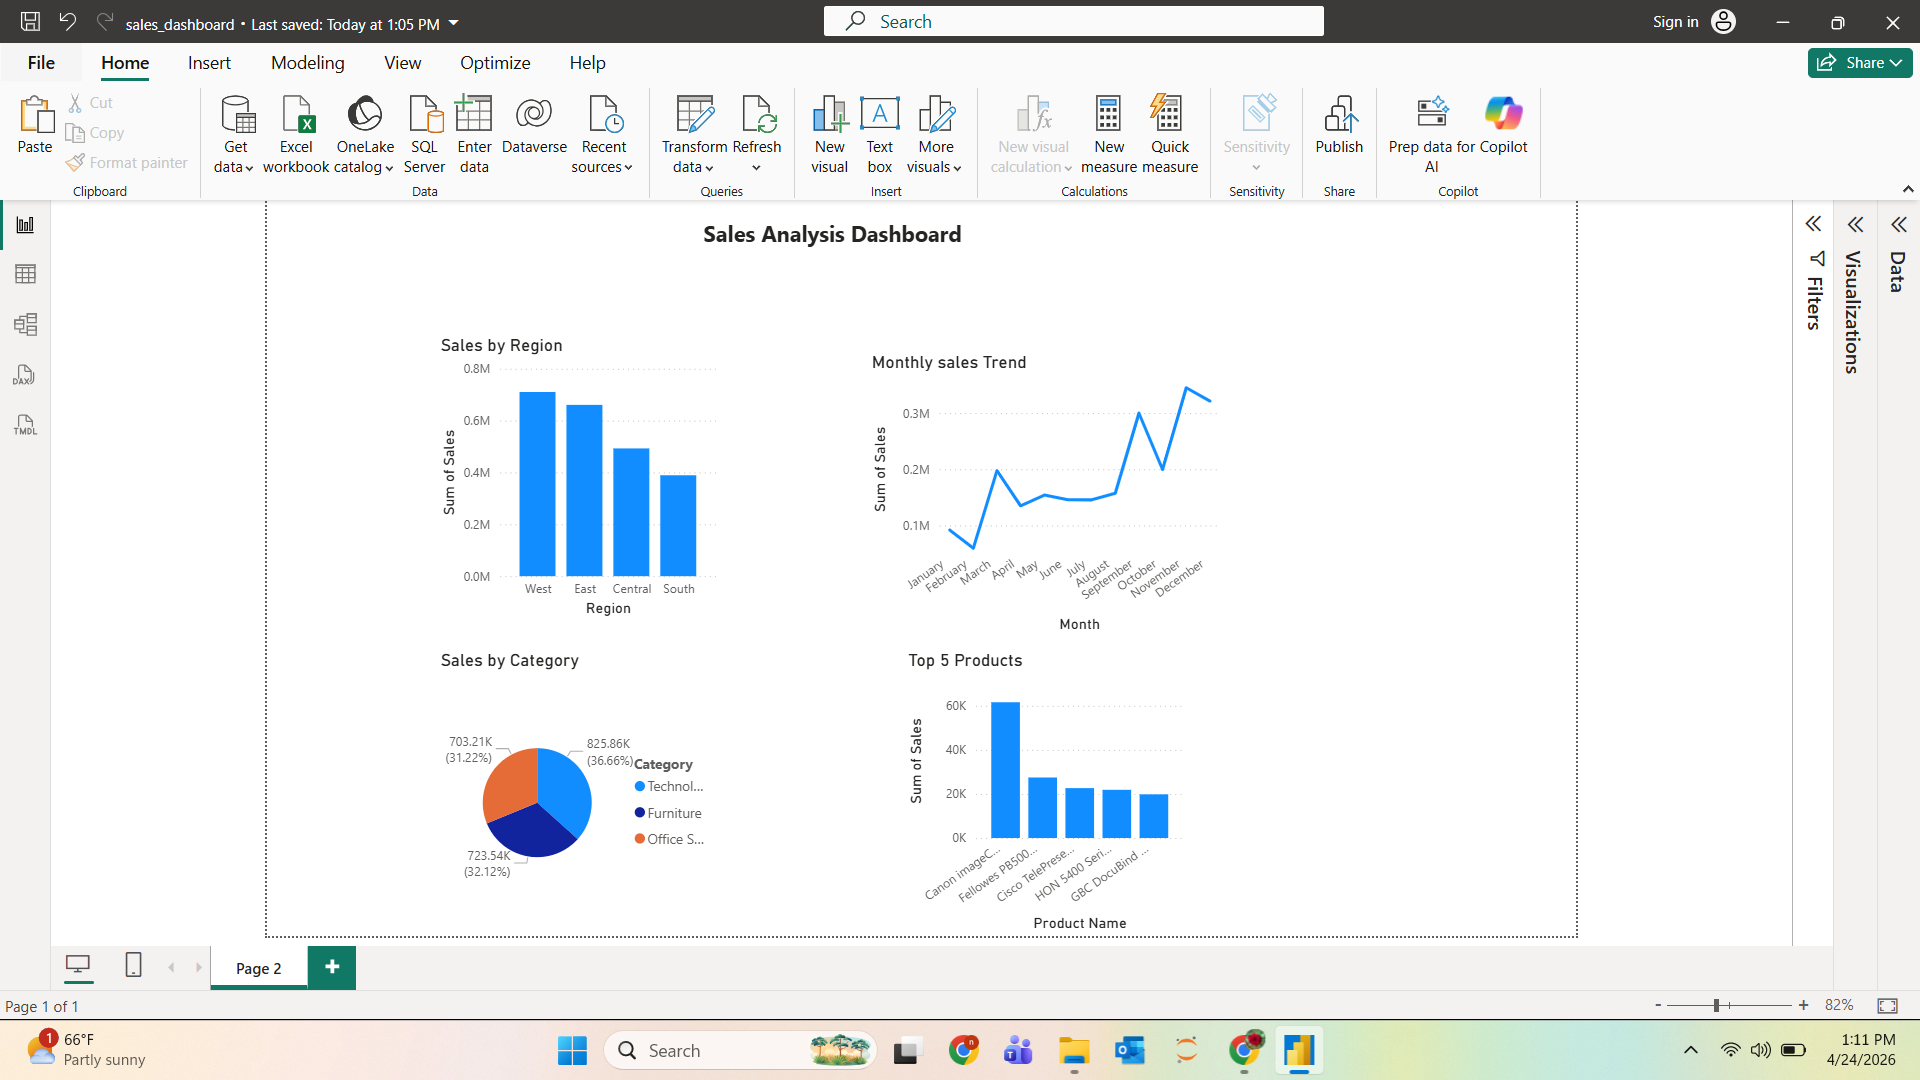

The page's visual inventory and layout, read from the dashboard file:
{"tool":"powerbi","page":{"name":"Page 2","canvas":[1280,720],"ordinal":0},"visuals":[{"type":"columnChart","title":"Sales by Region","fields":{"Category":["cleaned_sales_data.Region"],"Y":["Sum(cleaned_sales_data.Sales)"]},"box":[164.7,131.7,279.9,279.9],"z":0},{"type":"lineChart","title":"Monthly sales Trend","fields":{"Category":["cleaned_sales_data.Order Date.Variation.Date Hierarchy.Month"],"Y":["Sum(cleaned_sales_data.Sales)"]},"box":[587.3,148.2,349.9,279.9],"z":1000},{"type":"pieChart","title":"Sales by Category","fields":{"Y":["Sum(cleaned_sales_data.Sales)"],"Category":["cleaned_sales_data.Category"]},"box":[164.7,440.5,279.9,279.9],"z":2000},{"type":"columnChart","title":"Top 5 Products","fields":{"Category":["cleaned_sales_data.Product Name"],"Y":["Sum(cleaned_sales_data.Sales)"]},"box":[623,440.5,279.9,279.9],"z":3000},{"type":"textbox","box":[418.5,13.7,270.3,65.9],"z":4000}]}

Visuals, with their boxes on the page's 1280x720 design canvas (x1, y1, x2, y2). These are canvas units, not pixel positions in the 1920x1080 screenshot, which may show the page scaled, cropped or inside an application window:
"Sales by Region" columnChart: [165,132,445,412]
"Monthly sales Trend" lineChart: [587,148,937,428]
"Sales by Category" pieChart: [165,440,445,720]
"Top 5 Products" columnChart: [623,440,903,720]
textbox: [418,14,689,80]
